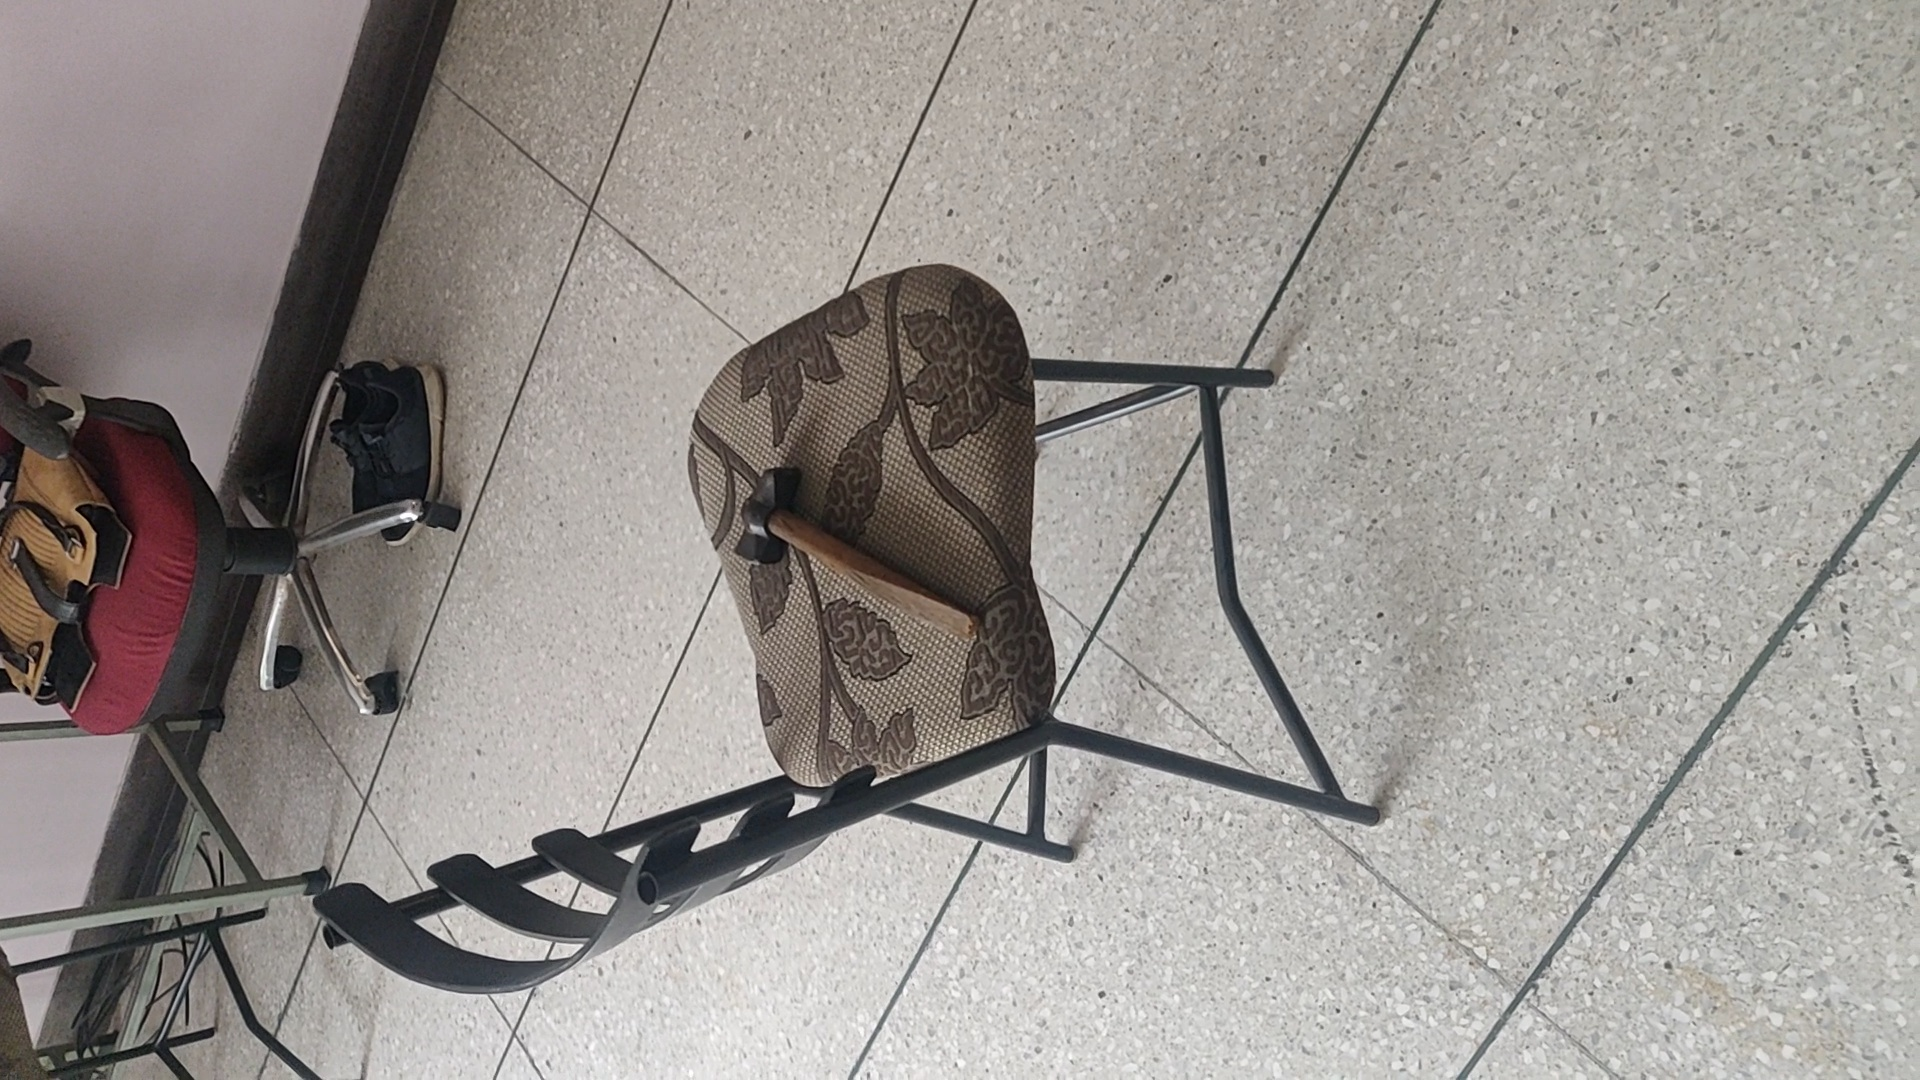hammer: (735, 465, 977, 651)
